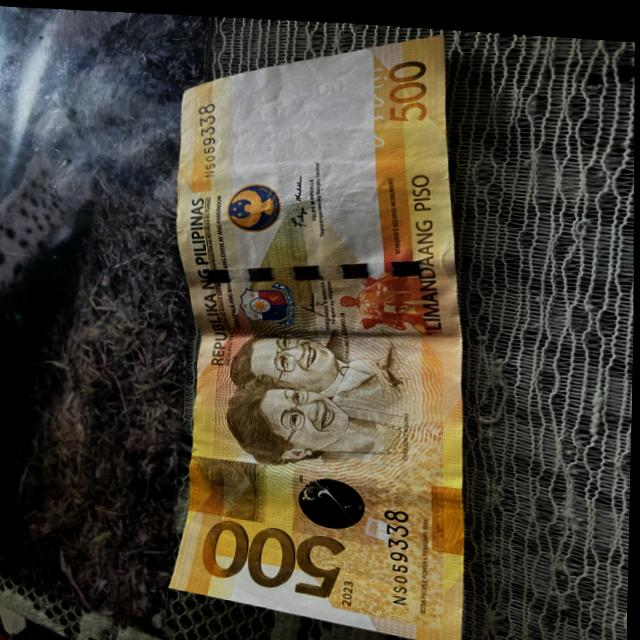concealed_value: (188, 451, 270, 520)
optically_variable_device: (294, 466, 385, 539)
security_thread: (185, 251, 457, 282)
see_through_mark: (354, 56, 392, 149)
serial_number: (379, 491, 417, 602), (194, 99, 221, 178)
value: (204, 512, 347, 600)
value_watermark: (297, 70, 348, 99)
watermark: (221, 59, 369, 173)
